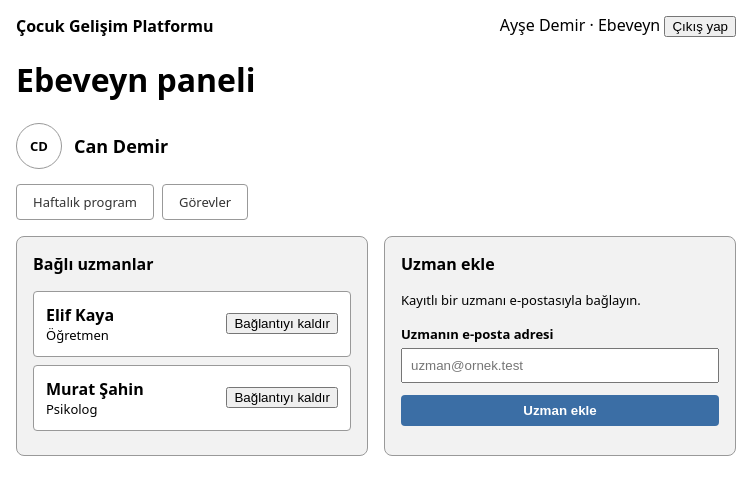
Scenario: ParentDashboard › link form › says the specialist is already linked, as a notice and without a second row (FR-M2-03)
Type "teacher@demo.test" into the field labelled "Uzmanın e-posta adresi".
click(560, 365); type("teacher@demo.test")  # box [401,348,719,383]
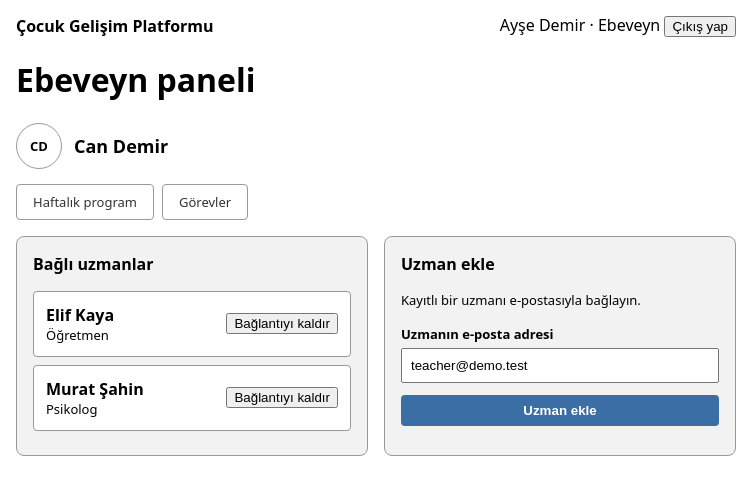
Click the button "Uzman ekle".
click(560, 410)  # box [401,395,719,426]
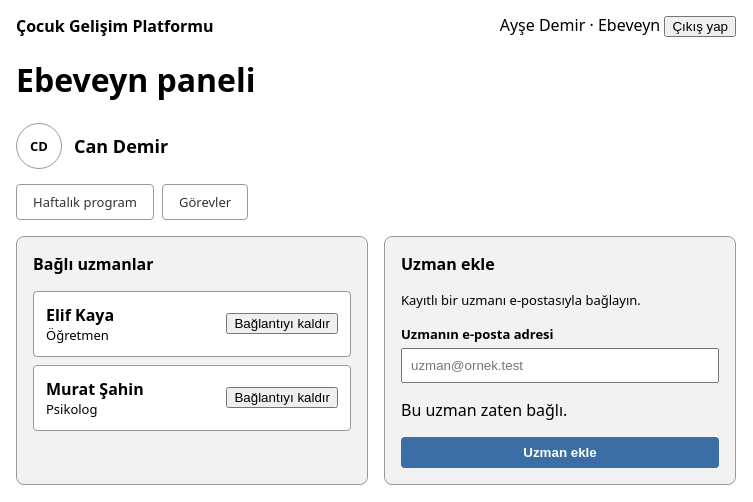
Expected: the number of elements with test id "specialist" is 2, [33,291,351,357]; [33,365,351,431]
Expected: the message reads "Bu uzman zaten bağlı.", [401,399,567,421]
